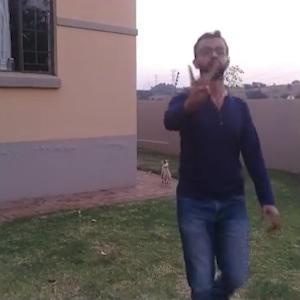takeoff-hand: (178, 53, 222, 104)
